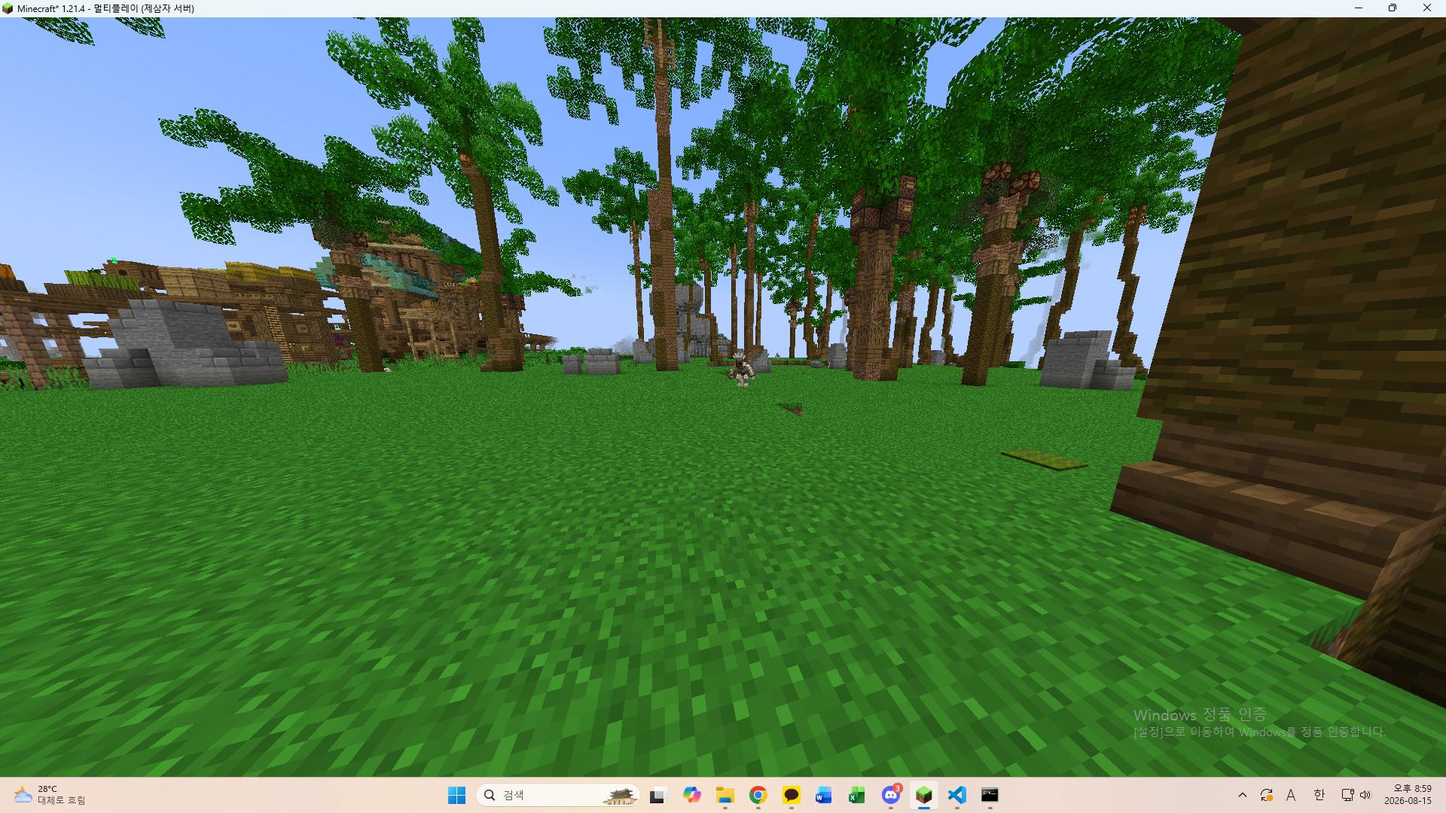bow_indian: (720, 348, 760, 399)
